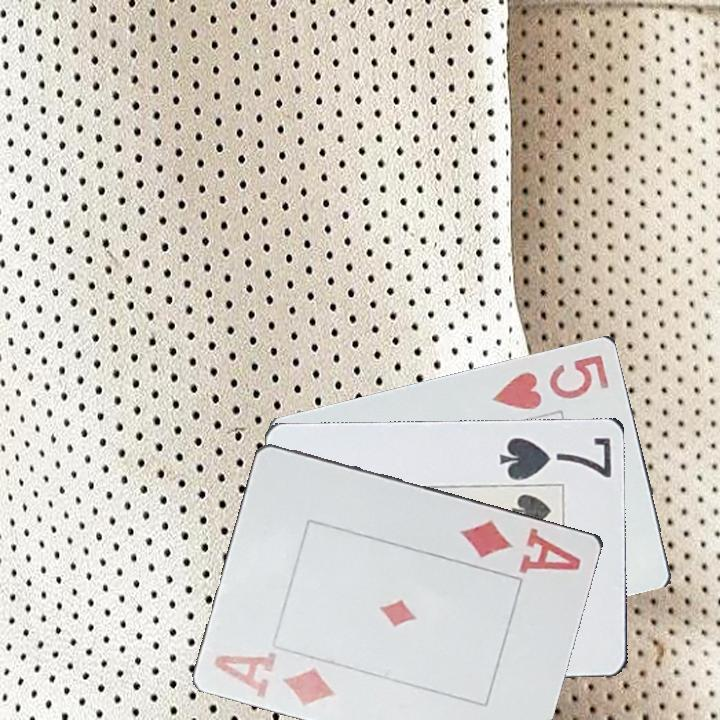5h: (488, 350, 613, 412)
7s: (496, 433, 615, 482)
Ad: (211, 647, 339, 710), (456, 515, 585, 577)
